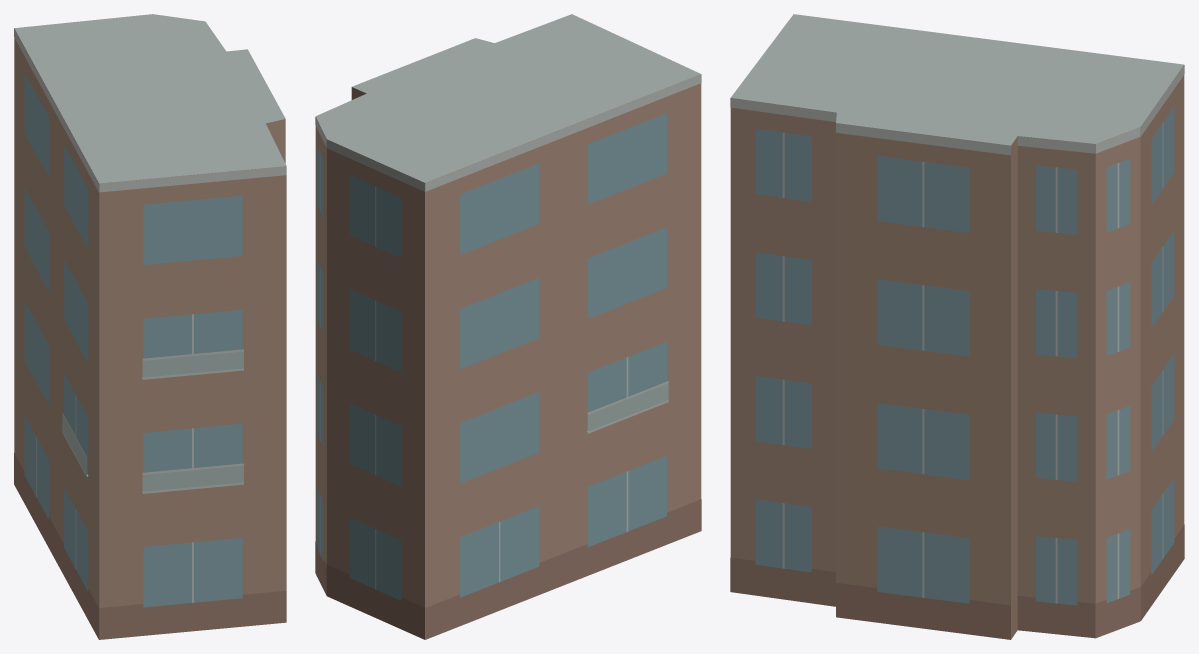
File: survey-upis-32464961.glb
The picture shows the model from 3 angles, left to right: view 1: azimuth 30°, elevation 25°; view 2: azimuth 150°, elevation 25°; view 3: azimuth 270°, elevation 25°; orthographic projection. The views are drawn at different scales.
Visible parts, largest first — view 1: survey-upis-32464961.tmp; view 2: survey-upis-32464961.tmp; view 3: survey-upis-32464961.tmp.
Boxes of the visible parts, x1=… form: survey-upis-32464961.tmp: x1=14, y1=14, x2=286, y2=639; survey-upis-32464961.tmp: x1=315, y1=14, x2=701, y2=639; survey-upis-32464961.tmp: x1=730, y1=14, x2=1184, y2=639.
Bounding box in the file's own units: 7.09 × 12.4 × 10.33.
